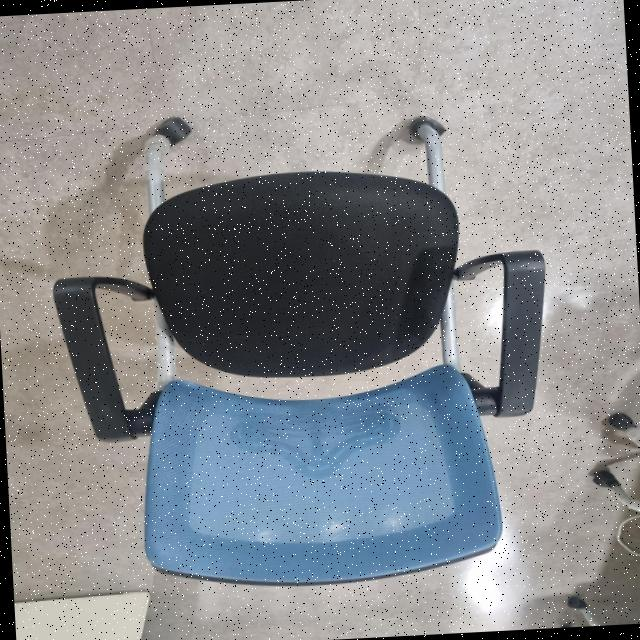Chair: (9, 21, 604, 624)
